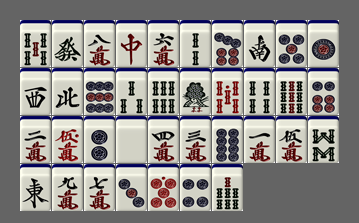0m: (52, 116, 83, 163)
0p: (148, 164, 179, 211)
0s: (212, 68, 243, 115)
1m: (244, 116, 275, 163)
1p: (308, 20, 339, 67)
1s: (180, 68, 211, 115)
1z: (20, 164, 51, 211)
2m: (20, 116, 51, 163)
2p: (84, 116, 115, 163)
2s: (180, 20, 211, 67)
2z: (244, 20, 275, 67)
3m: (180, 116, 211, 163)
3p: (116, 164, 147, 211)
3s: (116, 68, 147, 115)
3z: (20, 68, 51, 115)
4m: (148, 116, 179, 163)
4p: (180, 164, 211, 211)
4s: (244, 68, 275, 115)
4z: (52, 68, 83, 115)
5m: (276, 116, 307, 163)
5p: (276, 20, 307, 67)
5s: (20, 20, 51, 67)
5z: (116, 116, 147, 163)
6m: (148, 20, 179, 67)
6p: (308, 68, 339, 115)
6s: (148, 68, 179, 115)
6z: (52, 20, 83, 67)
7m: (84, 164, 115, 211)
7p: (212, 20, 243, 67)
7s: (212, 164, 243, 211)
7z: (116, 20, 147, 67)
8m: (84, 20, 115, 67)
8p: (212, 116, 243, 163)
8s: (308, 116, 339, 163)
9m: (52, 164, 83, 211)
9p: (84, 68, 115, 115)
9s: (276, 68, 307, 115)
